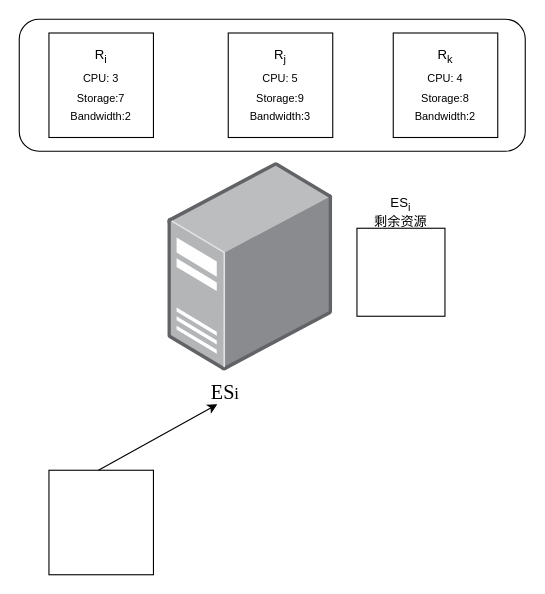
Some shapes in this 545 by 594 pixel diagram are drawn without their labels. Each missing label, with the box of its shape:
ES i CPU: 16 Storage:20 Bandwidth:10: (356, 227, 445, 316)
R L CPU: 15 Storage:18 Bandwidth:6: (48, 469, 153, 575)
